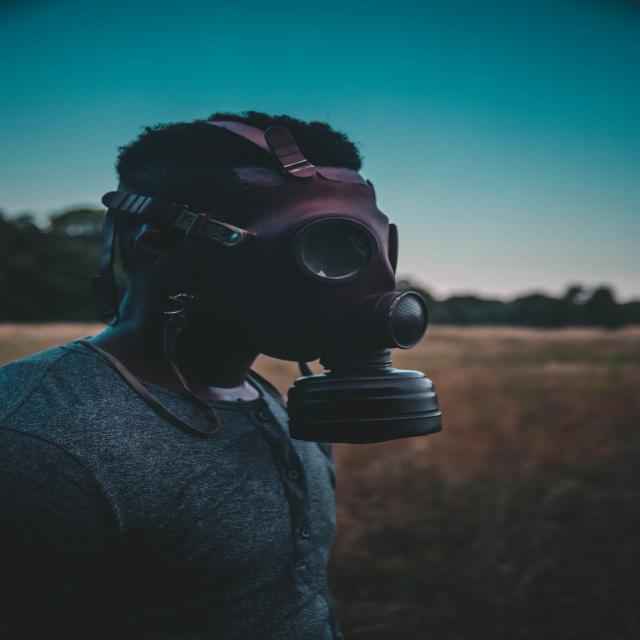adult: (0, 110, 428, 640)
